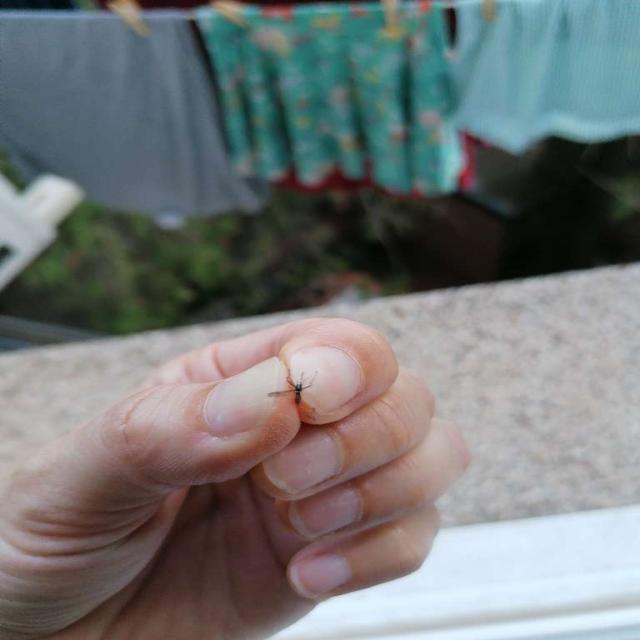albopictus: (255, 360, 327, 416)
